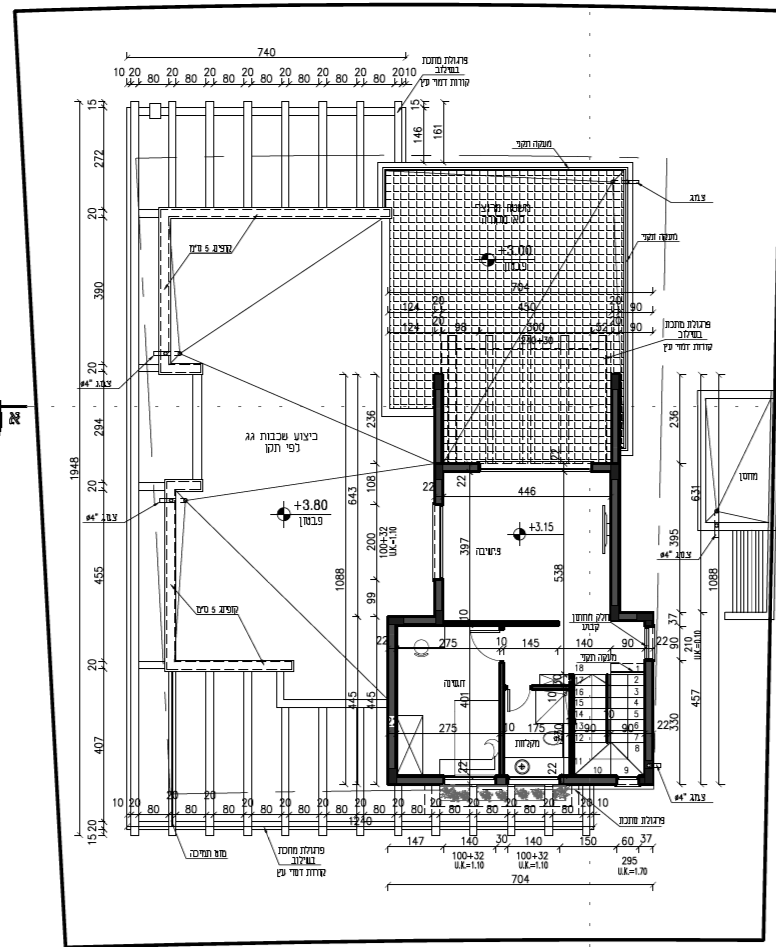door: (464, 627, 508, 668), (505, 684, 532, 715)
wall: (383, 611, 402, 790), (607, 457, 625, 627), (409, 612, 562, 632), (641, 672, 659, 794), (429, 370, 447, 485), (608, 368, 625, 455)
window: (471, 458, 598, 477), (428, 497, 447, 588), (438, 770, 499, 789), (639, 623, 658, 666), (605, 774, 642, 792)
